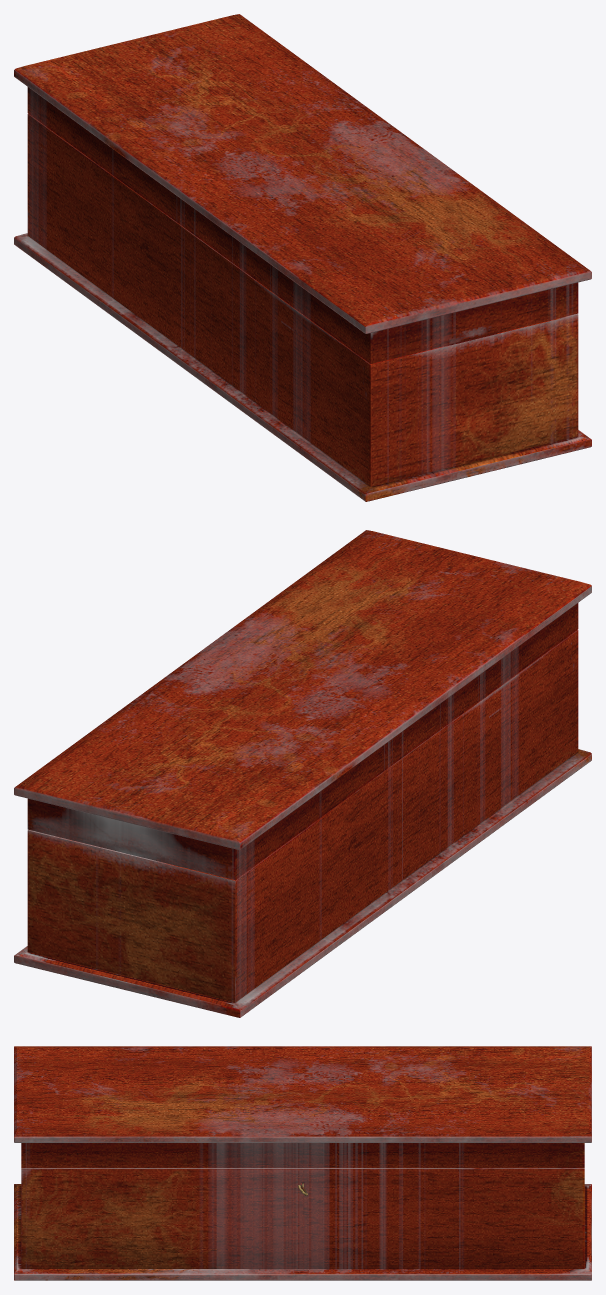
3 renders of one model, top to bottom at view 1: azimuth 30°, elevation 25°; view 2: azimuth 150°, elevation 25°; view 3: azimuth 270°, elevation 25°, orthographic. The views are drawn at different scales.
Parts seen in each view (by area): view 1: Cube.002; view 2: Cube.002; view 3: Cube.002.
Part boxes in pixels (x1=…): Cube.002: x1=14, y1=14, x2=591, y2=501; Cube.002: x1=14, y1=530, x2=591, y2=1017; Cube.002: x1=14, y1=1046, x2=591, y2=1280.
Size of the model in its own units: 38.28 by 27.45 by 98.38.
1 material, 1 textured.
